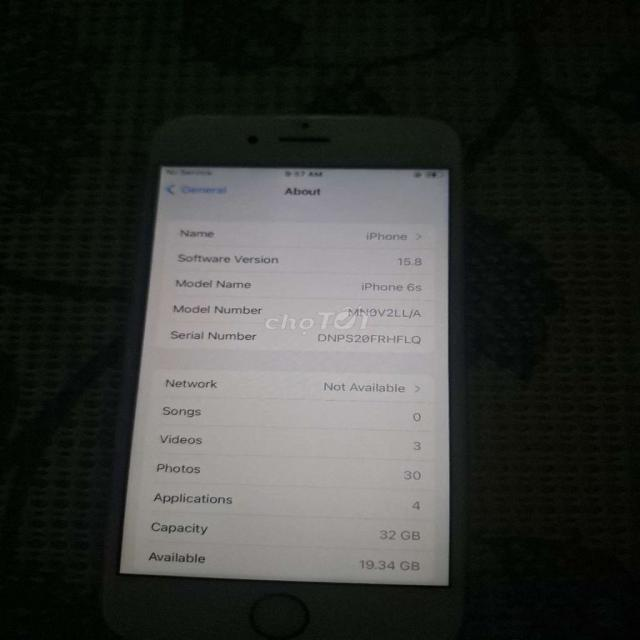gen_6: (100, 99, 495, 640)
